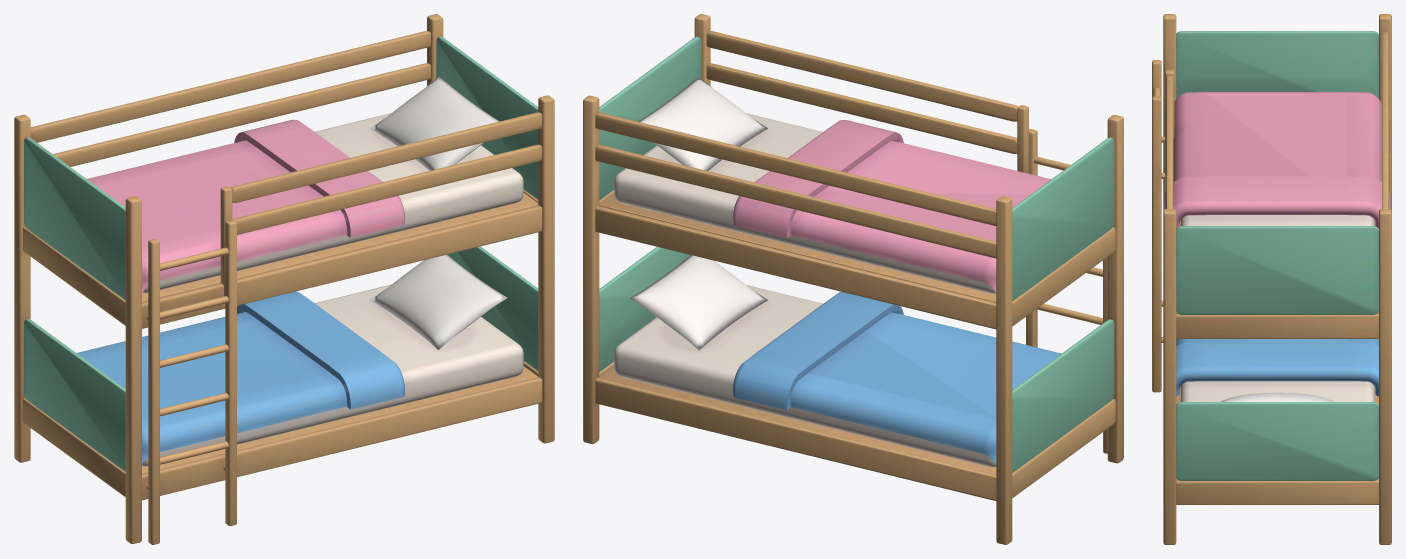
Rendered from bunk-bed-light.glb.
The picture shows the model from 3 angles, left to right: view 1: azimuth 30°, elevation 25°; view 2: azimuth 150°, elevation 25°; view 3: azimuth 270°, elevation 25°; orthographic projection. The views are drawn at different scales.
Parts seen in each view (by area): view 1: bunk-bed_body; view 2: bunk-bed_body; view 3: bunk-bed_body.
Boxes of the visible parts, box(x1,y1,x2,y2) form: bunk-bed_body: box(14, 14, 554, 544); bunk-bed_body: box(583, 14, 1123, 544); bunk-bed_body: box(1152, 14, 1391, 544).
Bounding box in the file's own units: 2.2 × 1.7 × 1.11.
Materials: 1 (1 with a texture image).
